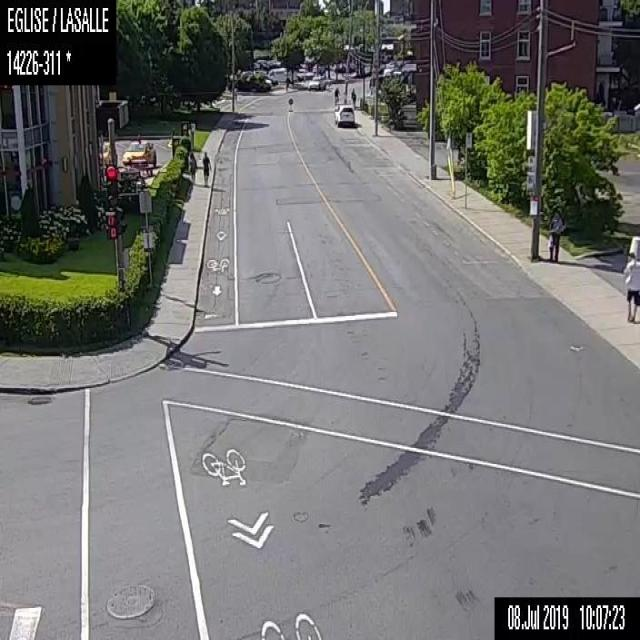pedestrian: (621, 249, 639, 323), (547, 204, 563, 263), (201, 149, 210, 183), (188, 151, 196, 181), (284, 74, 290, 94), (350, 85, 355, 108), (333, 86, 339, 105)
vehicle: (121, 136, 156, 164), (334, 104, 356, 126), (267, 67, 295, 81), (306, 75, 324, 89)
